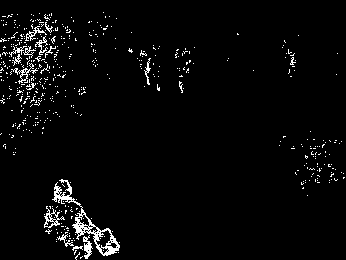person: (44, 179, 121, 260)
